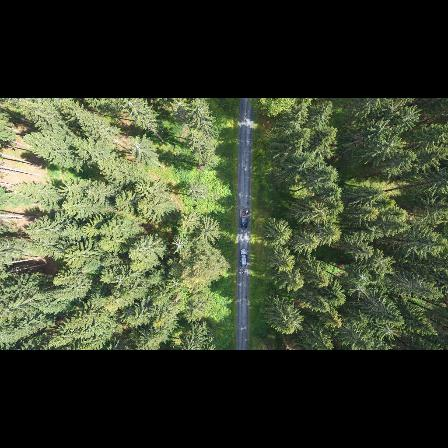Sick: (371, 318, 403, 342), (365, 252, 396, 273), (347, 282, 371, 301), (171, 235, 190, 258), (350, 269, 374, 285)
